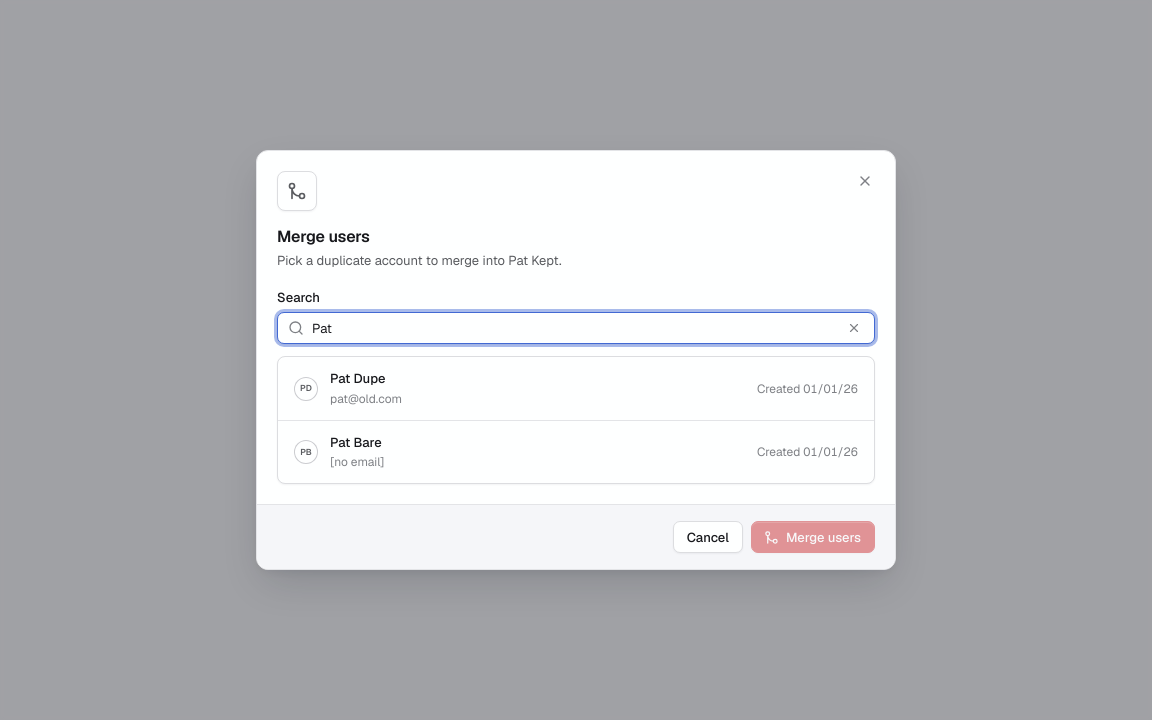
Test: UserMergeDialog › lets the admin pick a different user
Click the text "Pat Dupe": (358, 379) [330, 370, 386, 387]
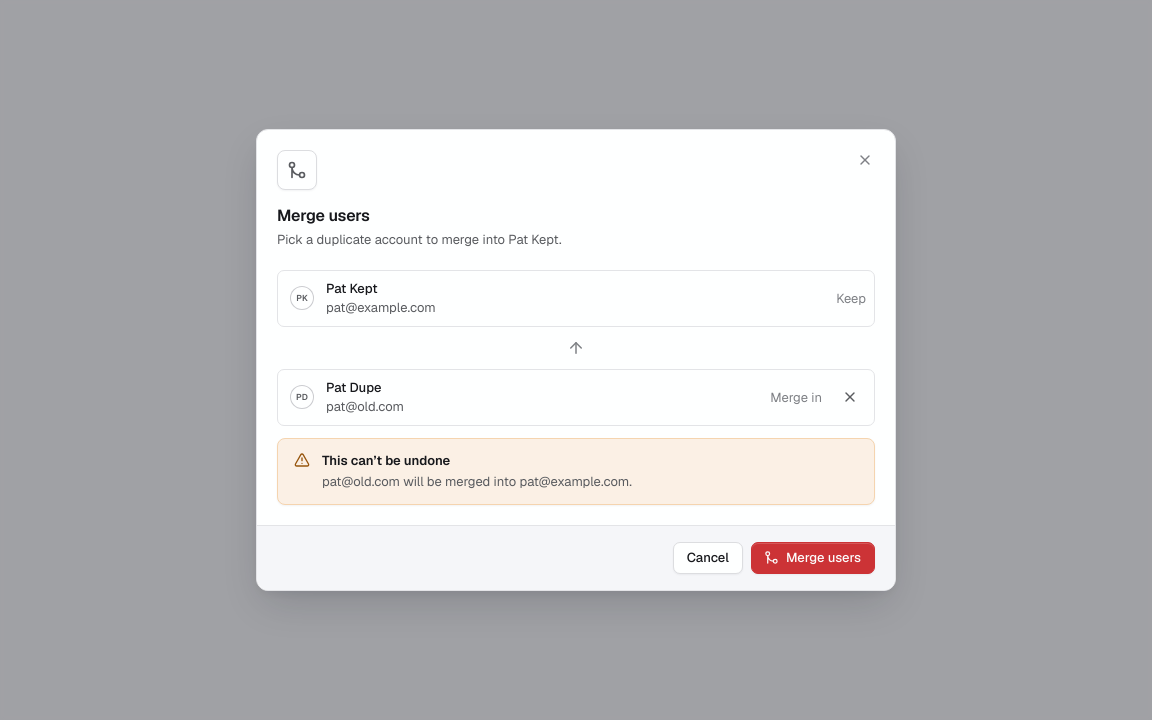
Click the button named "Choose a different user": (850, 397) [834, 381, 866, 413]
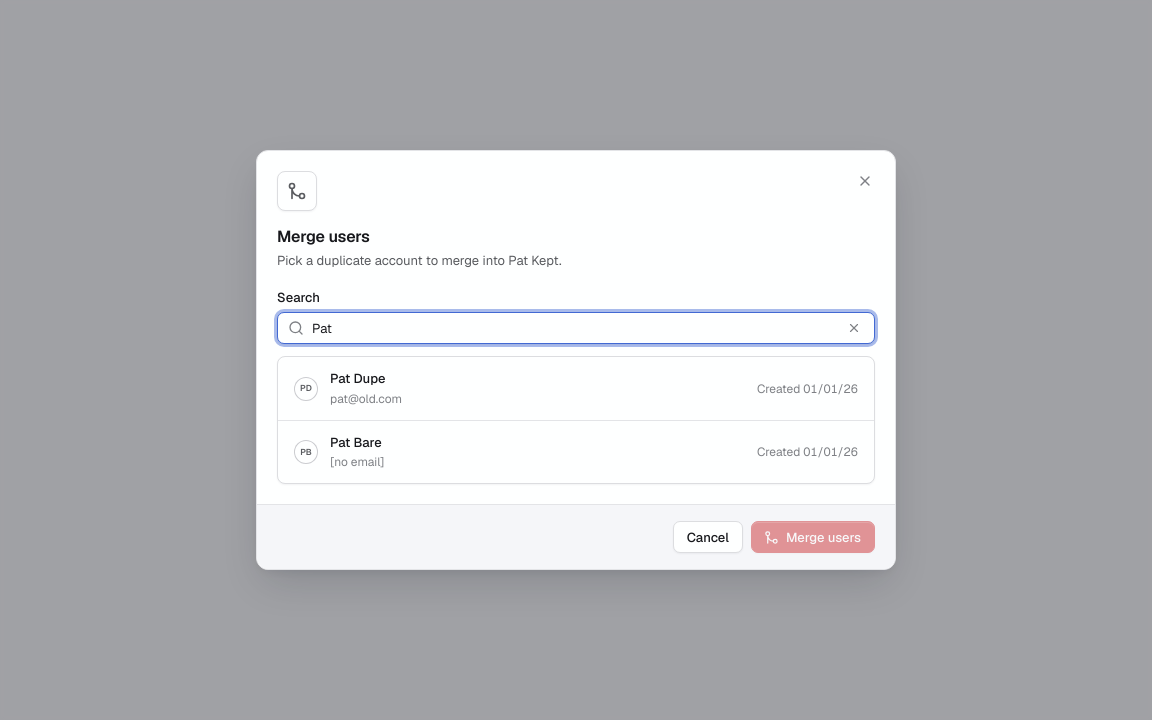
Now the search field is shown, box [312, 313, 836, 343]
Now the button "Merge users" is disabled, box [751, 521, 875, 553]
